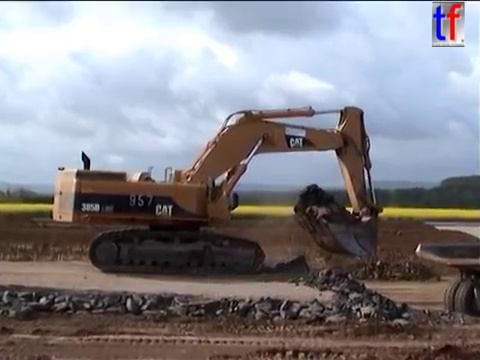excavator: (51, 103, 386, 278)
truck: (412, 240, 480, 328)
